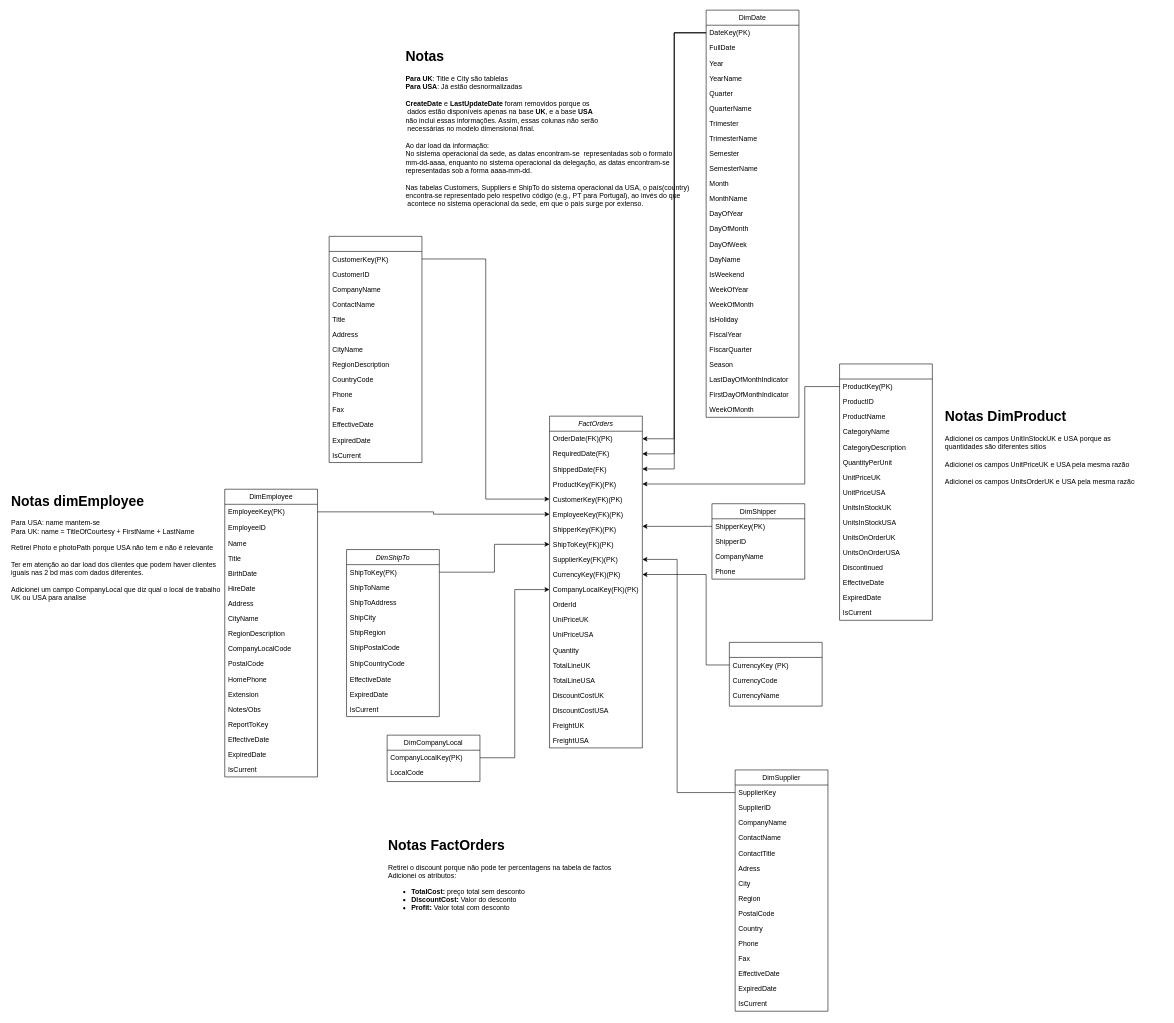
Some shapes in this 1174 by 1023 pixel diagram are drawn without their labels. The shapes that lost their labels are listed below. From the top down, each one's box as (x1, y1, x2, y2) in pixels, then its label:
(329, 236, 422, 463): DimCustomer
(839, 363, 932, 620): DimProduct
(729, 642, 822, 706): DimCurrency
